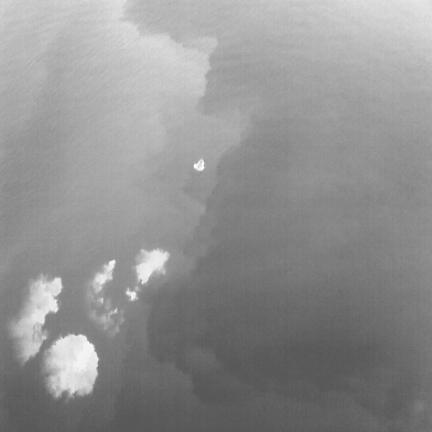flukeprints: (9, 274, 62, 365), (43, 334, 98, 397), (136, 249, 169, 284), (92, 260, 115, 295), (194, 159, 205, 171)
